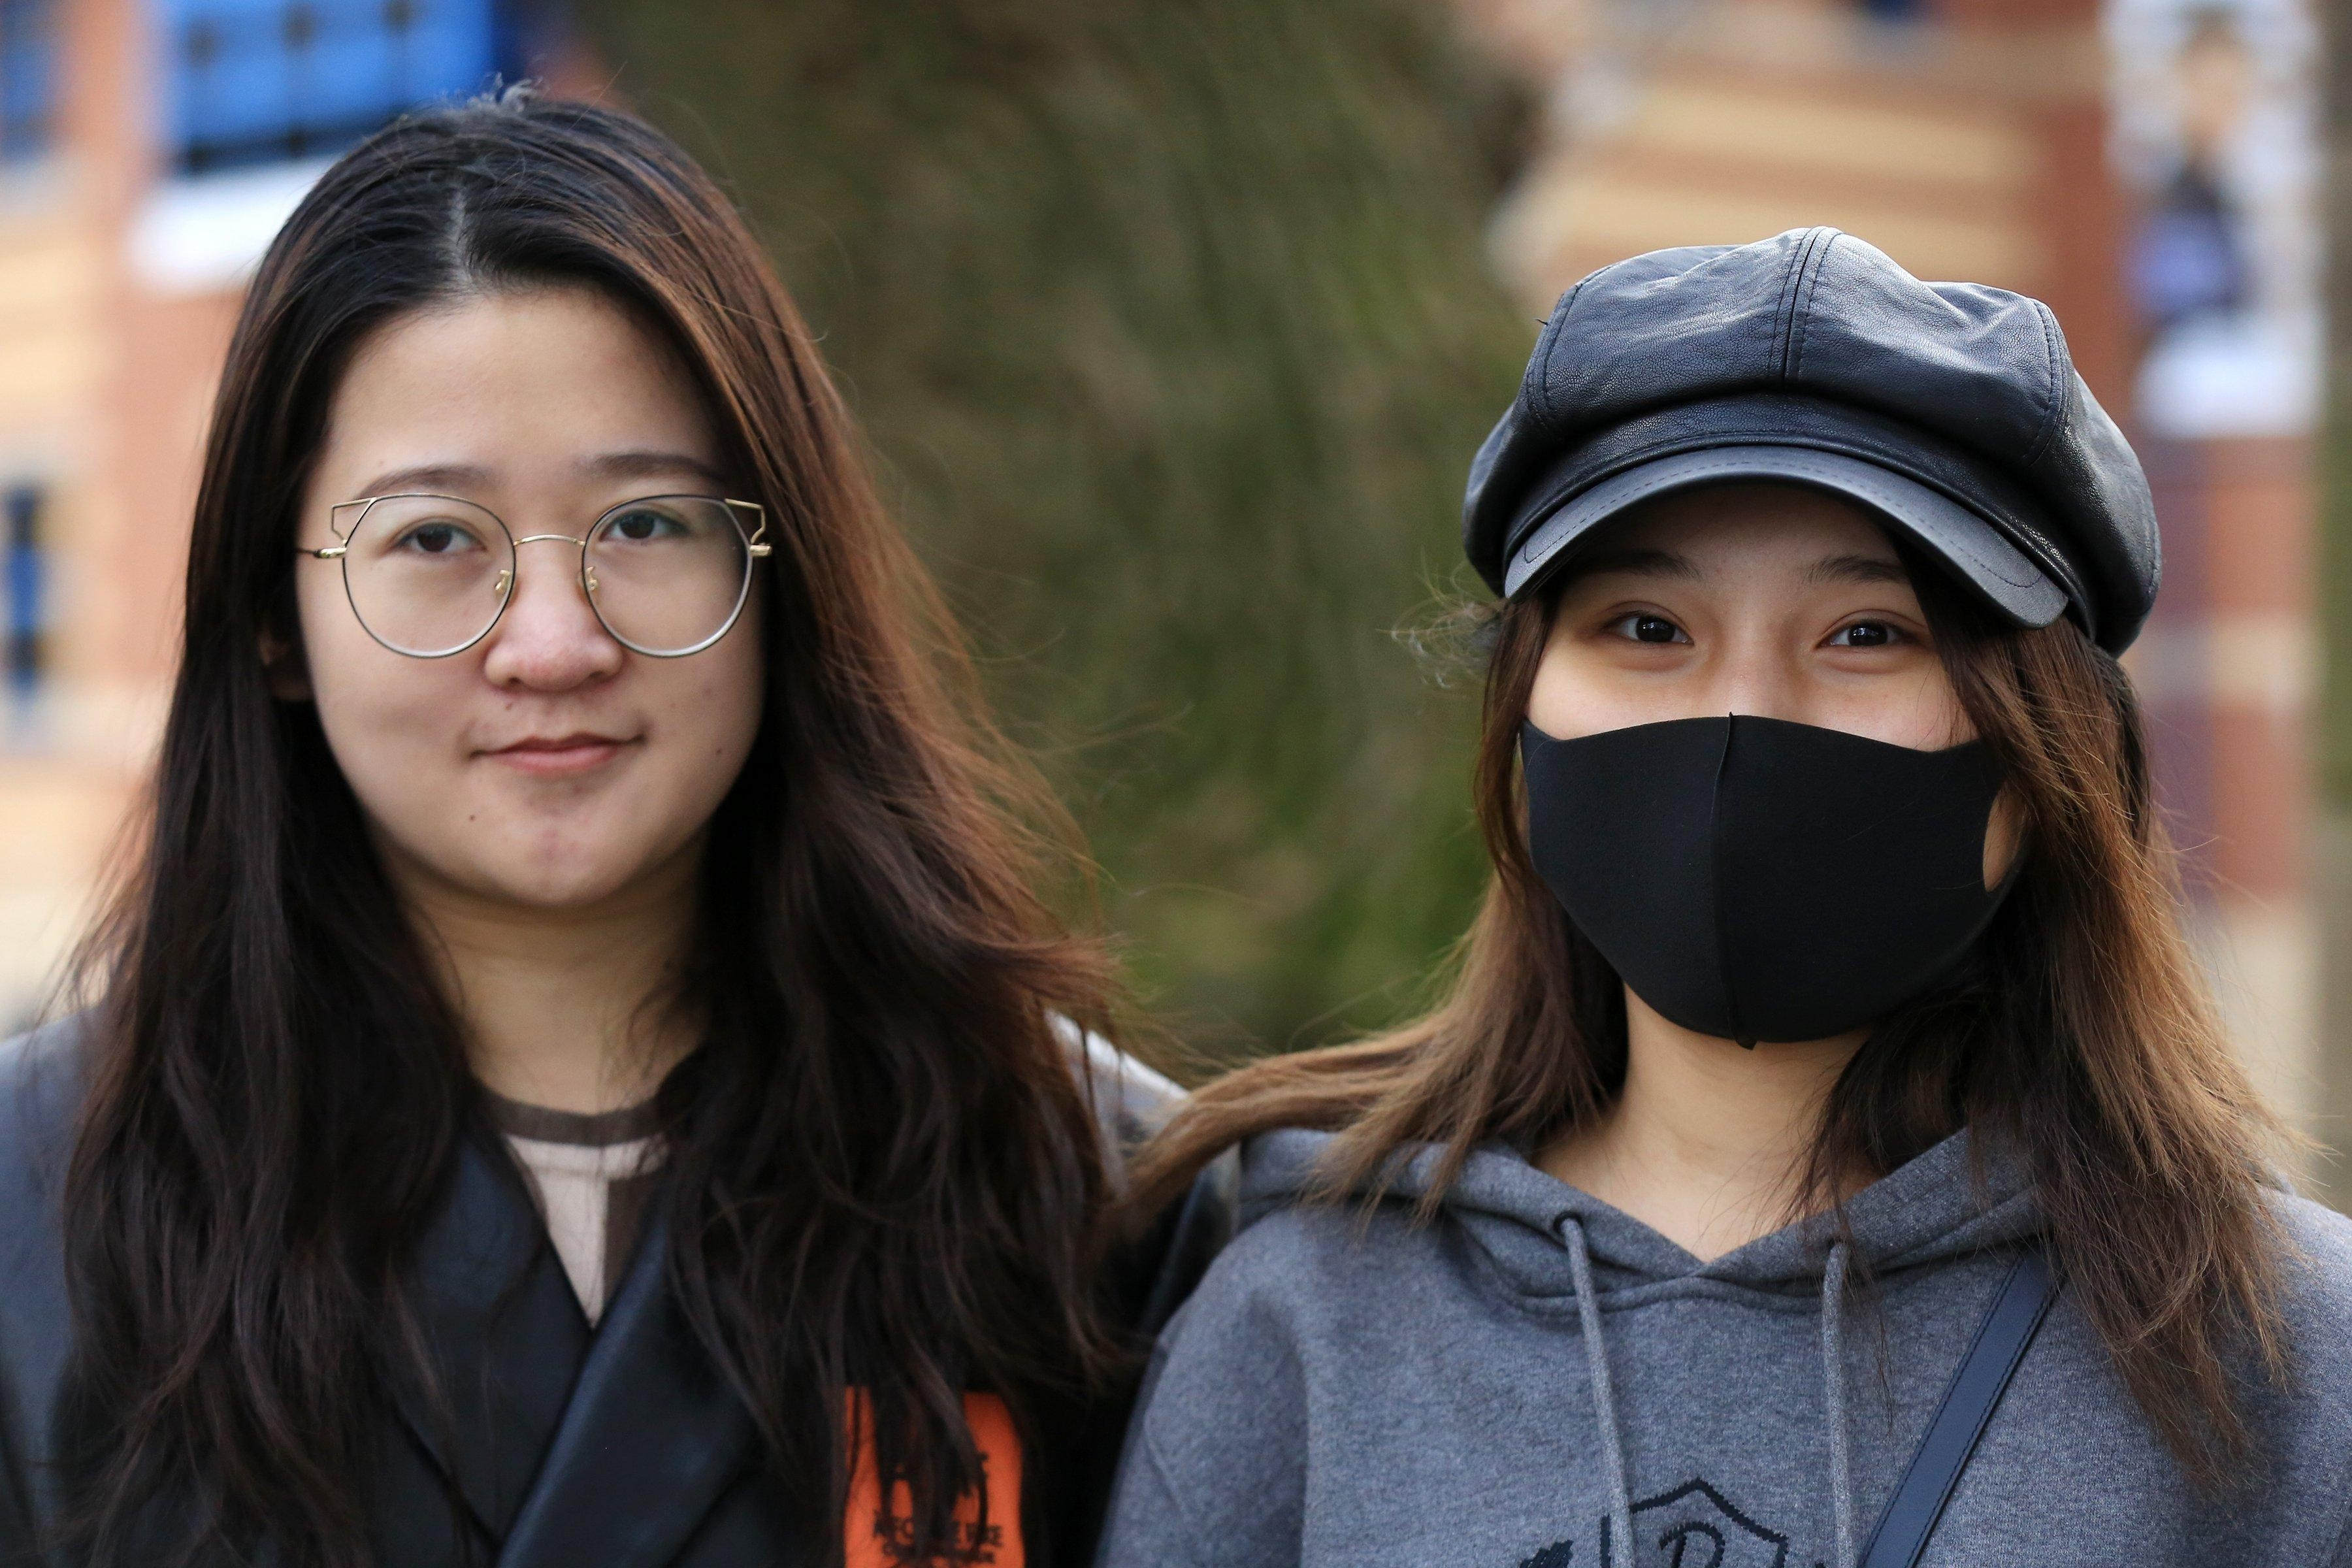face_no_mask: (259, 255, 804, 928)
face_with_mask: (1480, 388, 2121, 1111)
